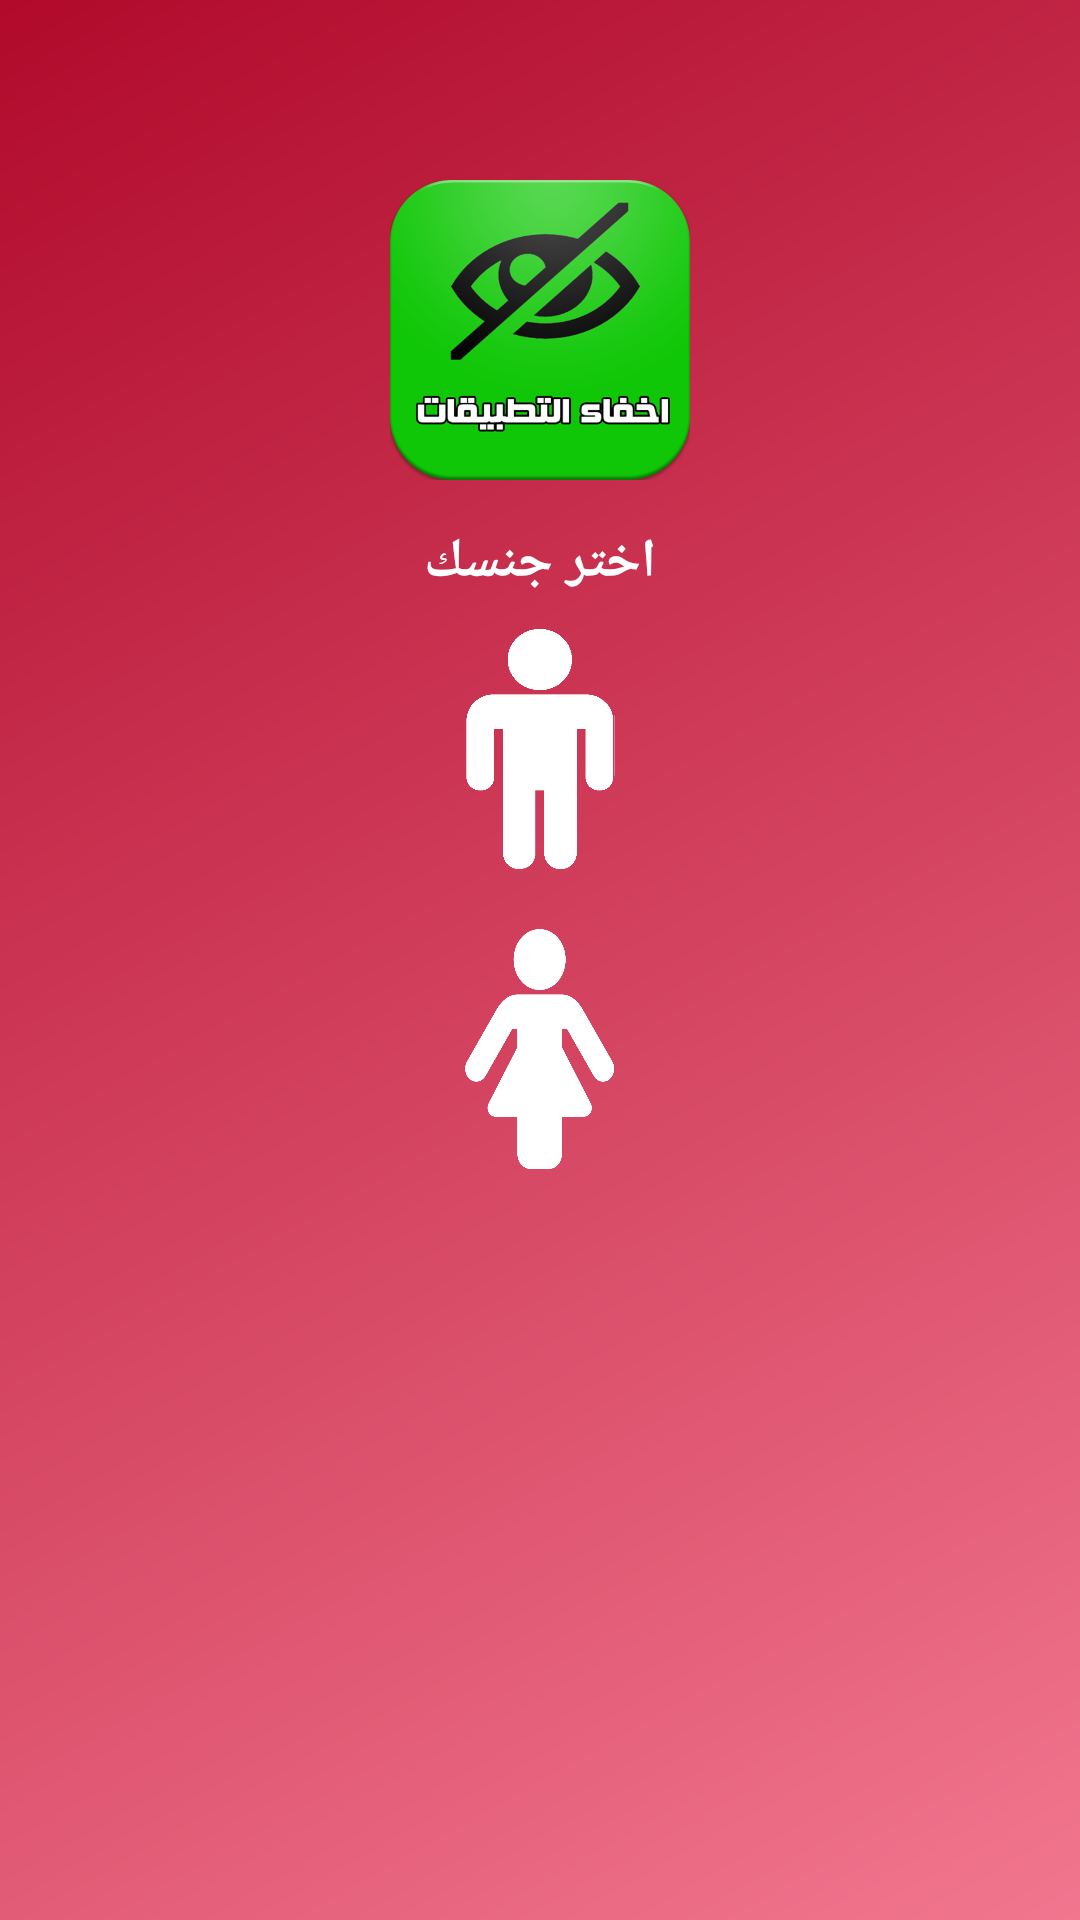

Icons on this 1080px×1920px Android screen, each with the point to tap as [x,y]:
boy: [540,749]
girl: [539,1049]
